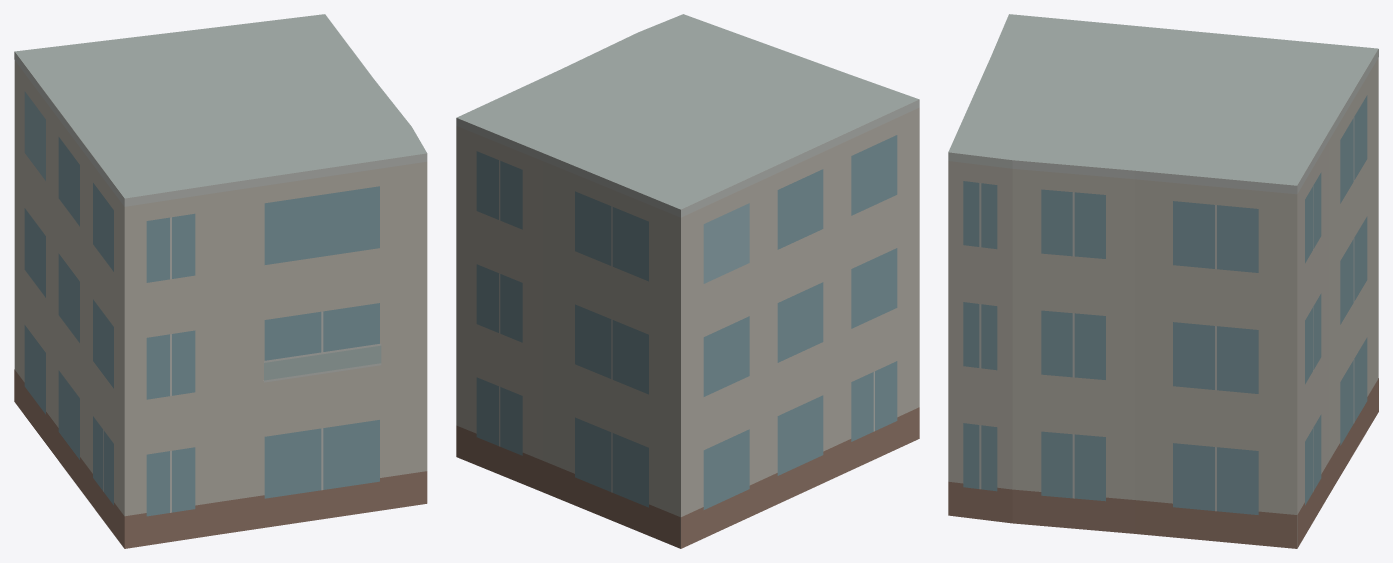
Rendered from survey-upis-33044136.glb.
3 renders of one model, left to right at view 1: azimuth 30°, elevation 25°; view 2: azimuth 150°, elevation 25°; view 3: azimuth 270°, elevation 25°, orthographic. The views are drawn at different scales.
Visible parts, largest first — view 1: survey-upis-33044136.tmp; view 2: survey-upis-33044136.tmp; view 3: survey-upis-33044136.tmp.
Boxes of the visible parts, x1,y1,x2,y2 form: survey-upis-33044136.tmp: (14, 14, 427, 548); survey-upis-33044136.tmp: (456, 14, 919, 548); survey-upis-33044136.tmp: (948, 14, 1378, 548).
Bounding box in the file's own units: 10.46 × 10.3 × 11.08.
